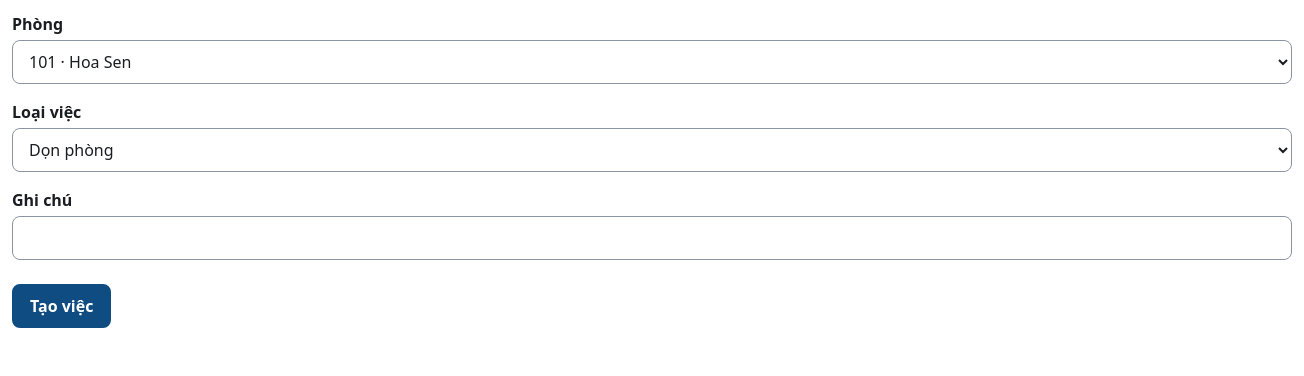
CommandForm › gửi một POST có Idempotency-Key và thân đúng; thành công báo role=status rồi làm mới trang
Step 1. Type "Dọn kỹ — khách VIP" into the field labelled "Ghi chú" → (652, 238), box [12,216,1292,260]
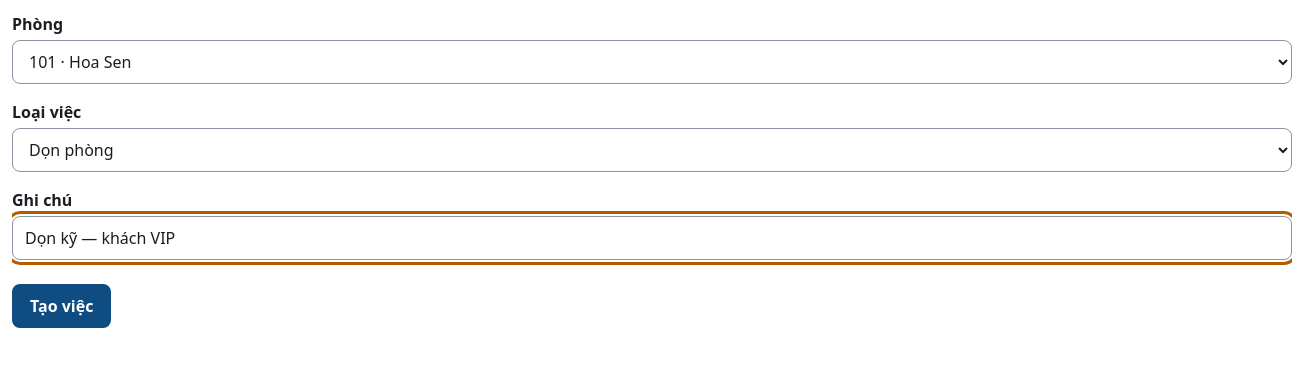
Step 2. Click the button "Tạo việc" → (62, 306), box [12,284,111,328]
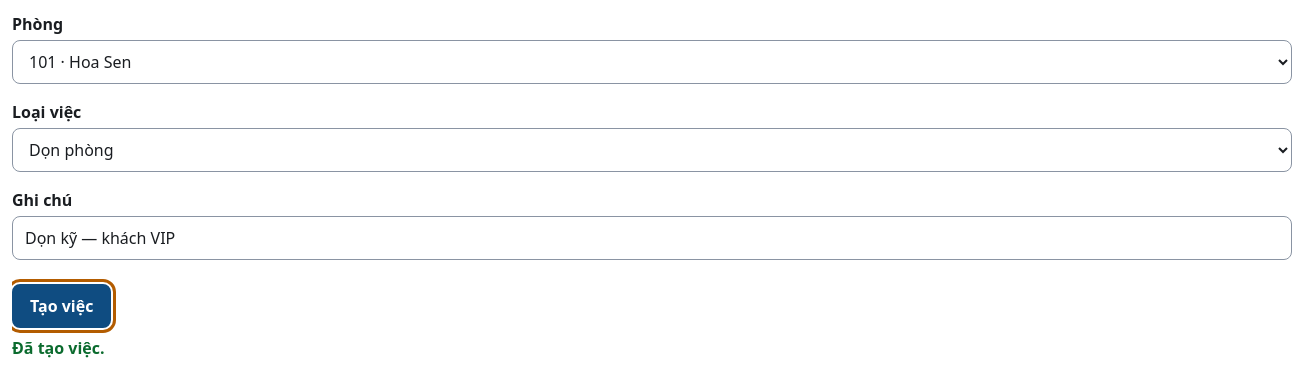
Expected: the message reads "Đã tạo việc.", [12,337,105,359]
